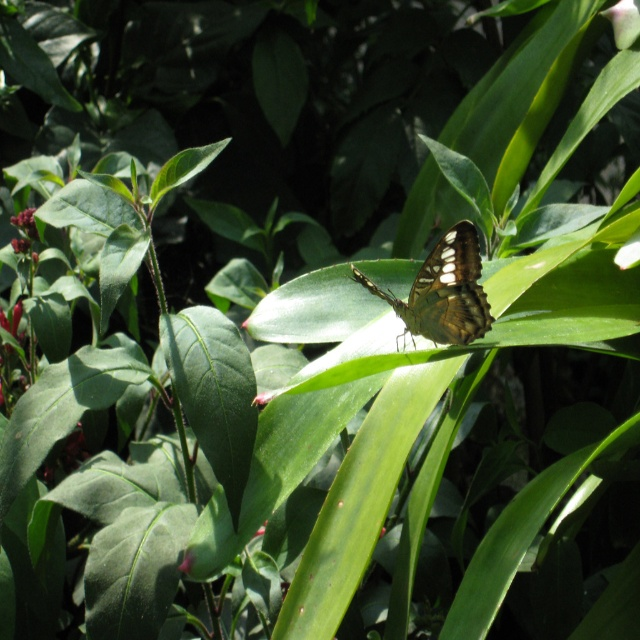Butterfly: (379, 210, 489, 357)
